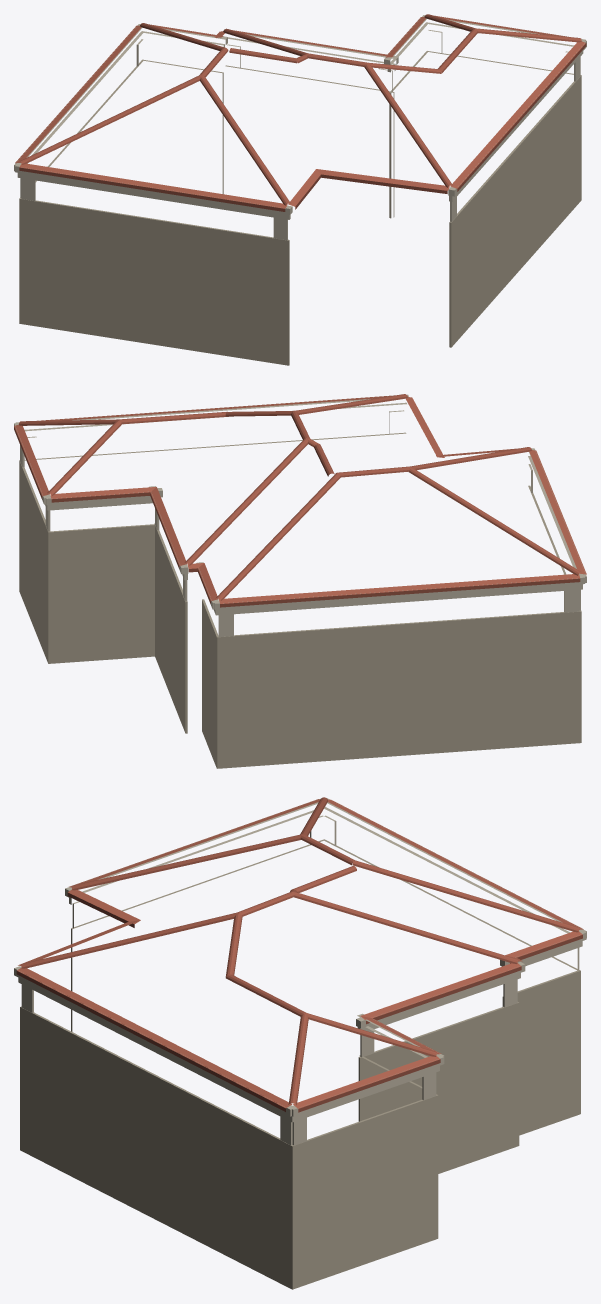
3 views of the same model, one above another, from view 1: azimuth 30°, elevation 25°; view 2: azimuth 150°, elevation 25°; view 3: azimuth 270°, elevation 25° (orthographic). The views are drawn at different scales.
Parts seen in each view (by area): view 1: detail; view 2: detail; view 3: detail.
Part boxes in pixels (<box>): detail: <box>14,14,586,365</box>; detail: <box>14,394,586,768</box>; detail: <box>14,797,586,1289</box>.
Size of the model in its own units: 26.75 by 9.8 by 20.75.
